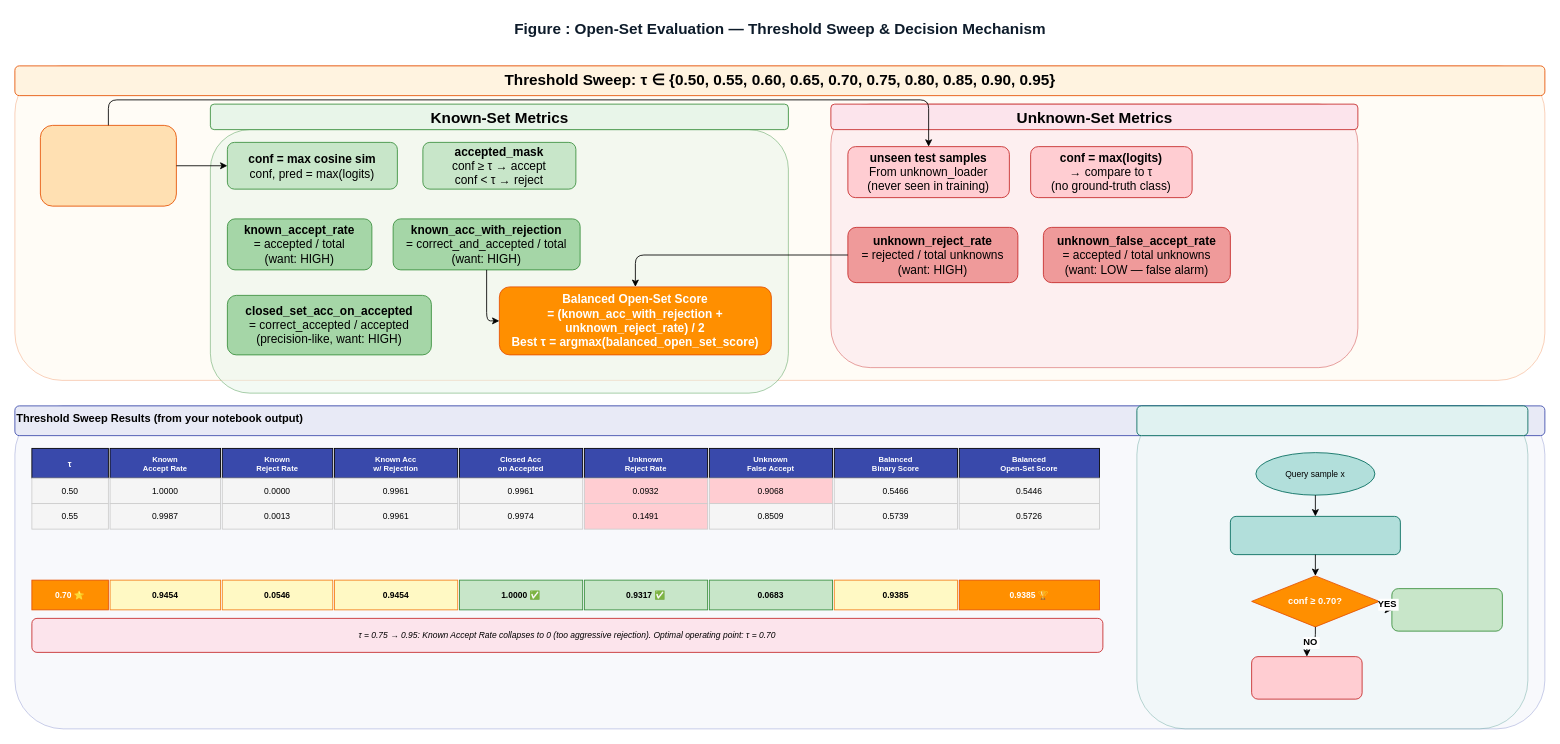
This 1560x744 diagram has some shape labels left out. The centre of each missing label's shape, as x and y in pixels:
conf = max(cos_sim(f(x), P)): (x=1315, y=535)
Final Inference Decision (τ=0.70): (x=1332, y=420)
For each τ: Iterate known_loader (closed-set val) + unknown_loader (unseen test): (x=108, y=165)
✅ Known Class argmax(logits): (x=1446, y=609)
❌ UNKNOWN Reject sample: (x=1306, y=677)
